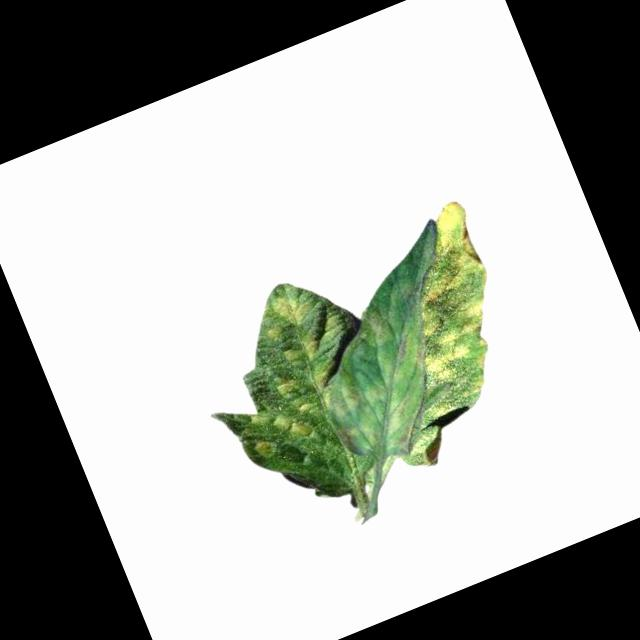Leaf_Mold: (359, 198, 536, 421), (298, 293, 452, 471), (234, 372, 331, 464), (256, 282, 321, 343), (280, 329, 328, 371)
